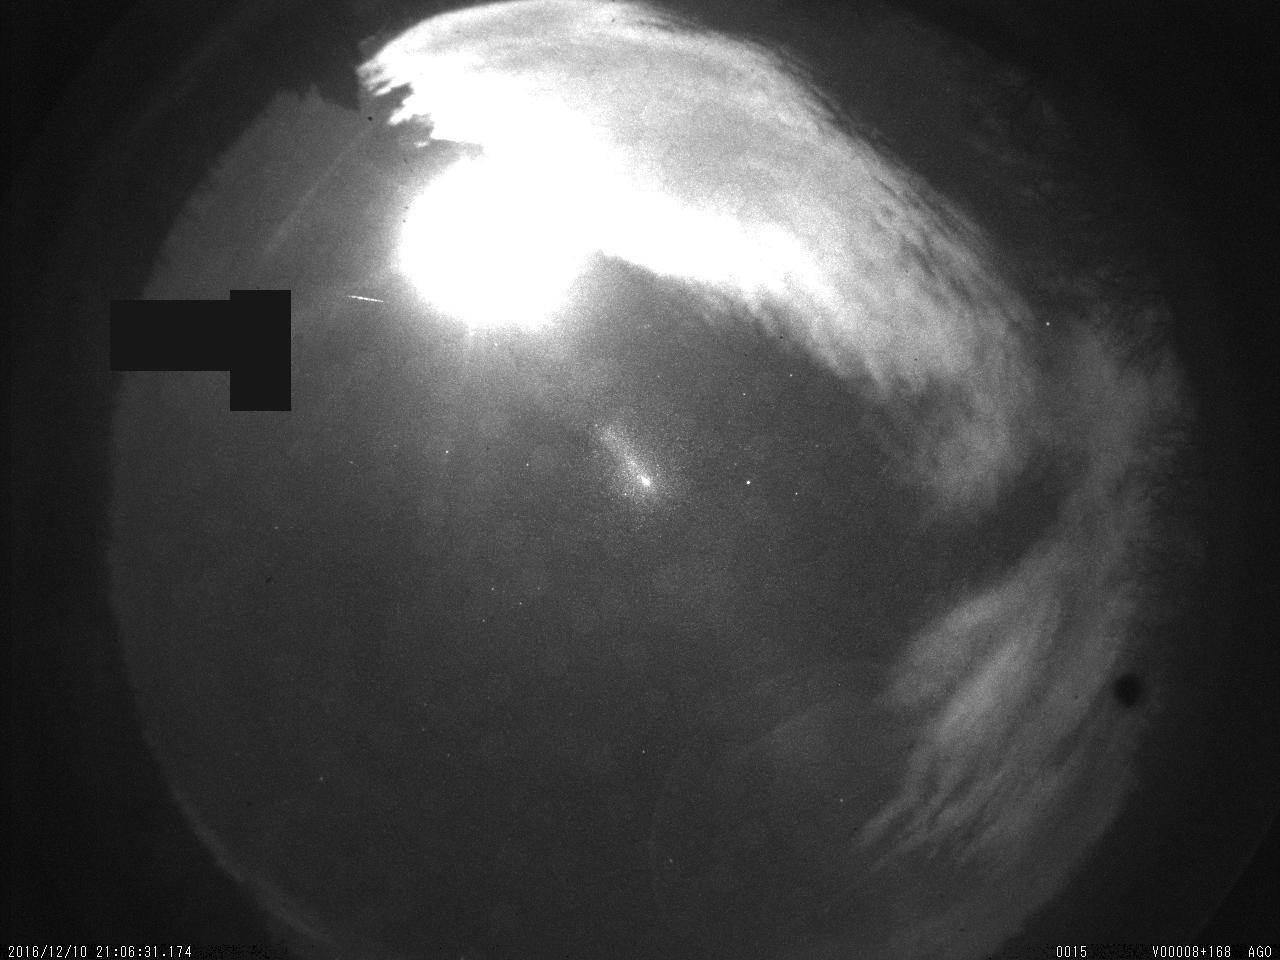meteor: (340, 281, 393, 321)
